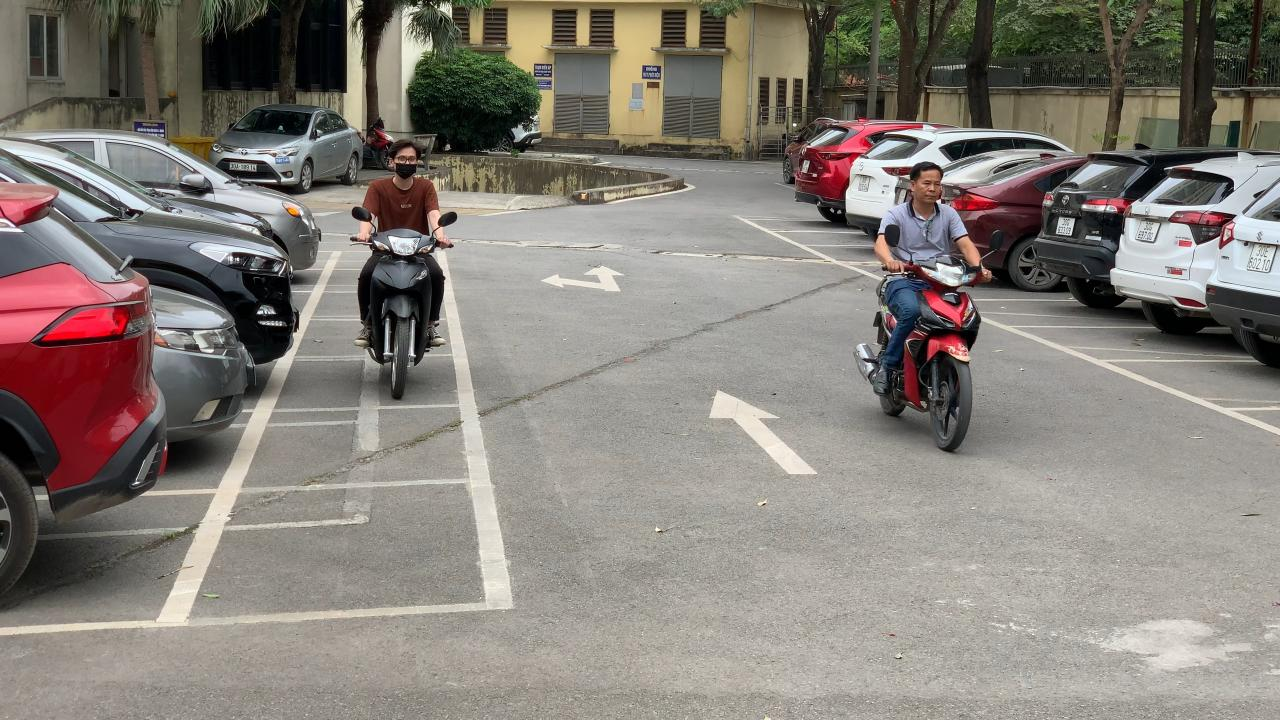motorcyclist: (852, 160, 1004, 453), (349, 138, 458, 400)
